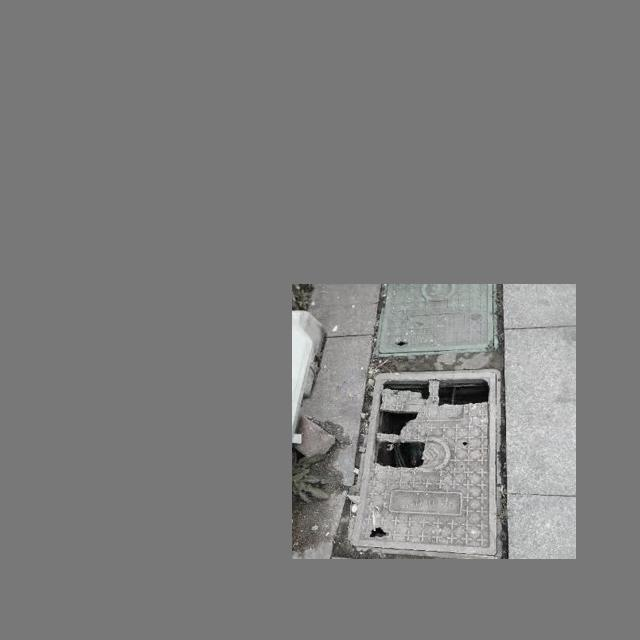broke: (345, 368, 502, 559)
